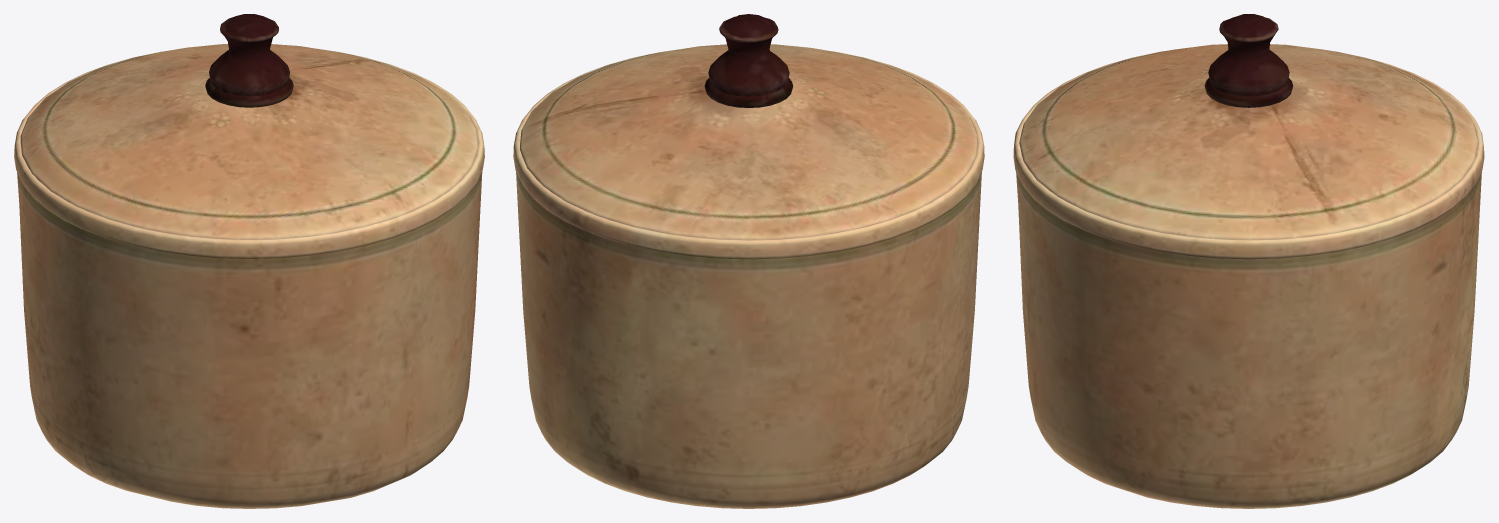
Rendered from brass_pot_01.glb.
The picture shows the model from 3 angles, left to right: view 1: azimuth 30°, elevation 25°; view 2: azimuth 150°, elevation 25°; view 3: azimuth 270°, elevation 25°; orthographic projection.
Visible parts, largest first — view 1: brass_pot_01; view 2: brass_pot_01; view 3: brass_pot_01.
Part boxes in pixels (box(x1,y1,x2,y2)): brass_pot_01: box(14, 14, 484, 508); brass_pot_01: box(513, 14, 984, 508); brass_pot_01: box(1013, 14, 1484, 508).
Bounding box in the file's own units: 0.3019 × 0.2909 × 0.3017.
Materials: 1 (1 with a texture image).
